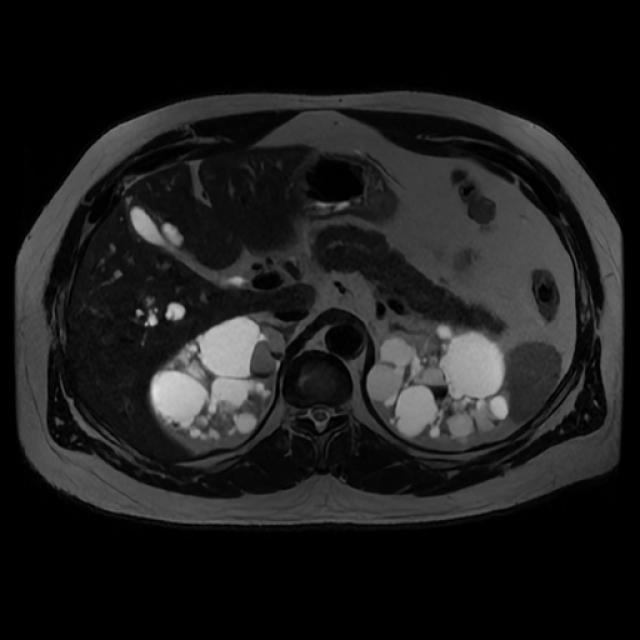sag: (149, 316, 285, 444)
sol: (367, 323, 510, 443)
